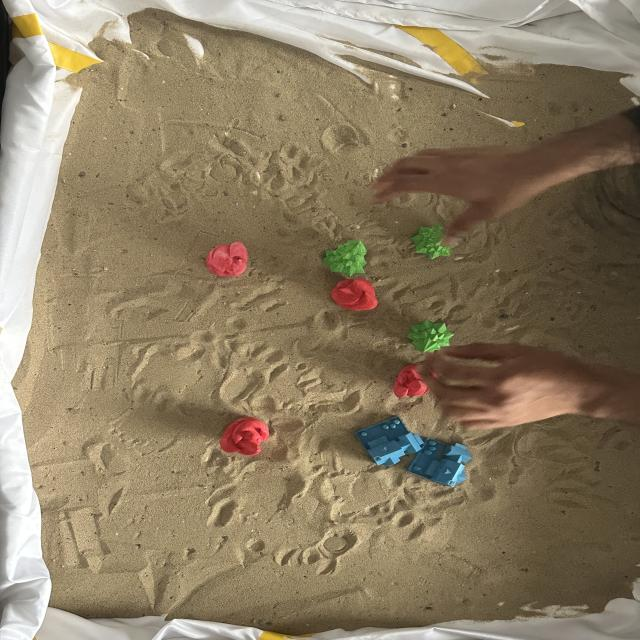fire: (218, 415, 271, 457), (204, 240, 250, 278), (394, 364, 439, 397), (332, 279, 378, 311)
house: (355, 416, 424, 466), (408, 437, 472, 488)
tree: (321, 239, 368, 278), (405, 318, 455, 354), (412, 224, 458, 261)
